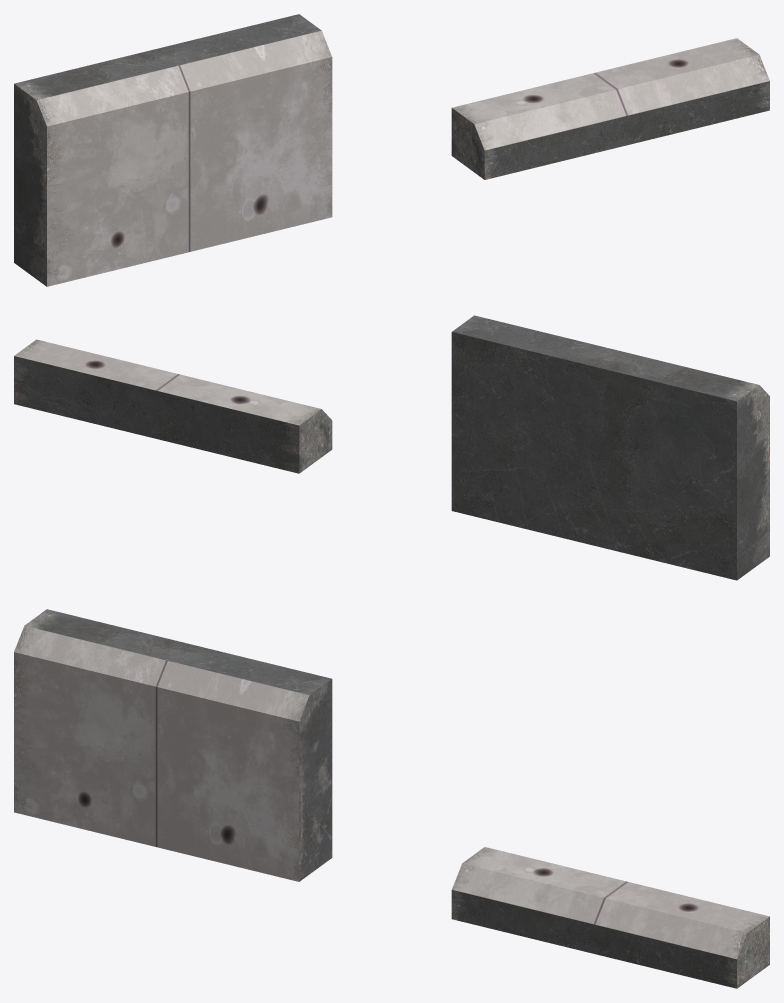
File: avenue_road_street_low_poly.glb
3 views of the same model, one above another, from view 1: azimuth 30°, elevation 25°; view 2: azimuth 150°, elevation 25°; view 3: azimuth 330°, elevation 25° (orthographic).
Parts seen in each view (by area): view 1: Object_2; view 2: Object_2; view 3: Object_2.
Boxes of the visible parts, bbox=[...] form: Object_2: bbox=[14, 14, 769, 286]; Object_2: bbox=[14, 315, 769, 580]; Object_2: bbox=[14, 609, 769, 988].
Size of the model in its own units: 253 by 60 by 20.
1 material, 1 textured.
